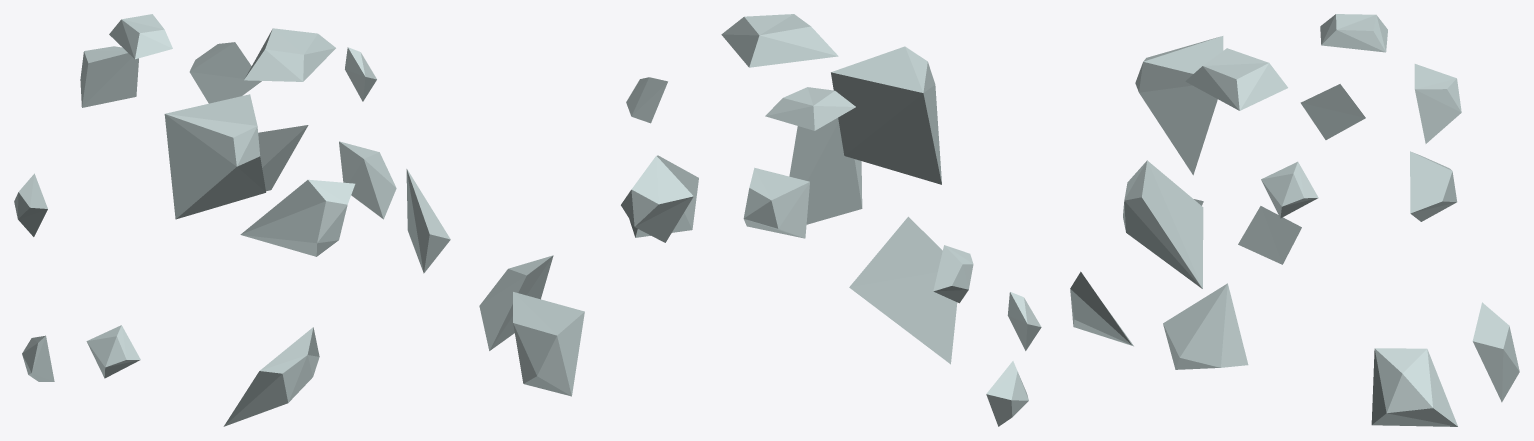
File: SilverOreA.fbx
The picture shows the model from 3 angles, left to right: view 1: azimuth 30°, elevation 25°; view 2: azimuth 150°, elevation 25°; view 3: azimuth 270°, elevation 25°; orthographic projection. The views are drawn at different scales.
Parts seen in each view (by area): view 1: SilverOreA; view 2: SilverOreA; view 3: SilverOreA.
Part boxes in pixels (left/top/right/bottom): SilverOreA: left=14, top=14, right=450, bottom=426; SilverOreA: left=479, top=14, right=1041, bottom=426; SilverOreA: left=1070, top=14, right=1519, bottom=426.
Bounding box in the file's own units: 53.76 × 39.01 × 46.41.
